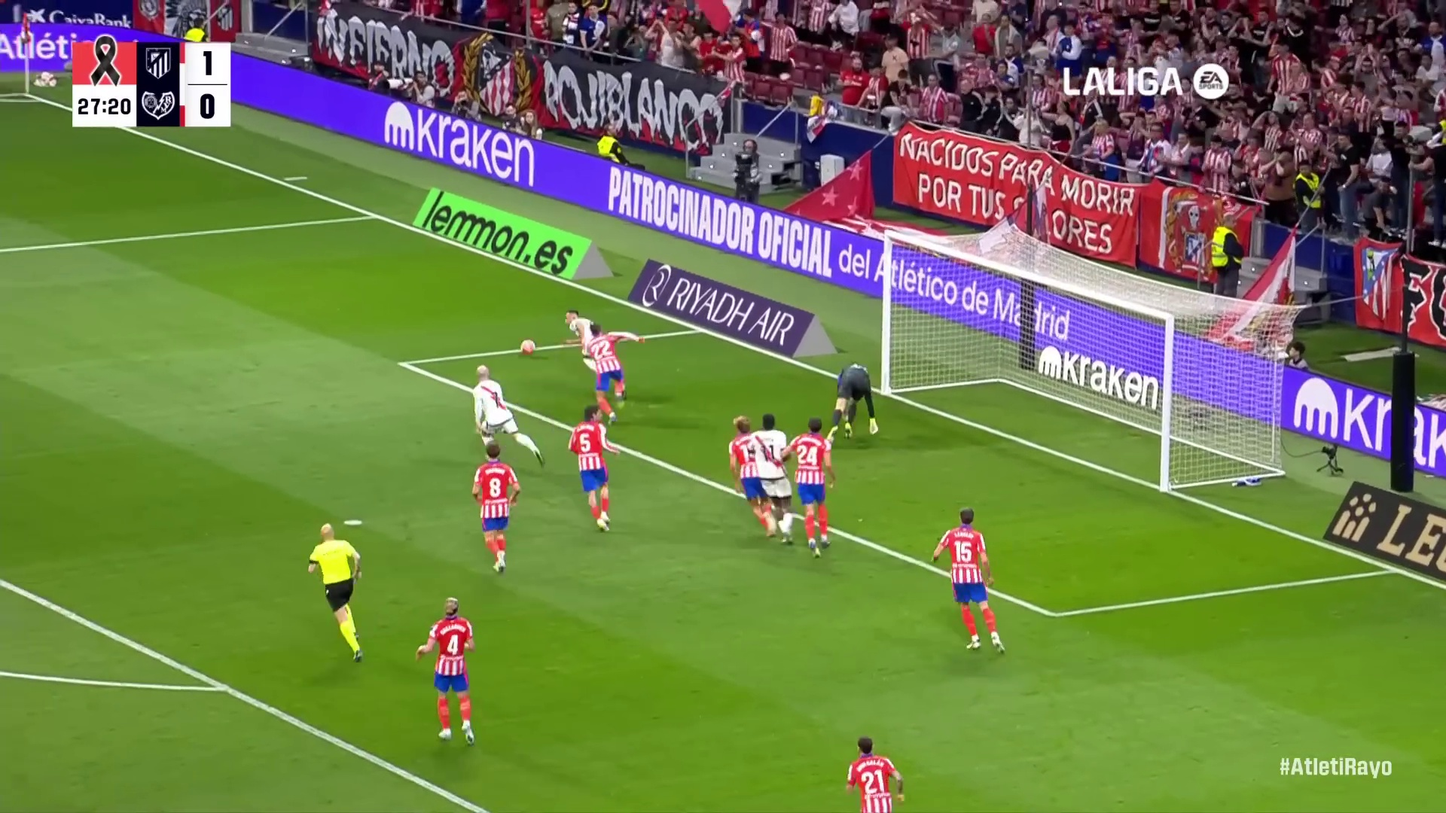ball: (518, 338, 538, 356)
player: (930, 505, 1011, 655), (409, 595, 486, 749), (466, 362, 548, 469), (725, 412, 789, 542), (783, 417, 839, 557), (564, 405, 623, 533), (743, 411, 797, 550), (468, 444, 523, 576), (577, 321, 648, 418), (841, 735, 908, 813), (828, 361, 882, 441), (552, 306, 607, 377)
referee: (301, 520, 373, 662), (827, 361, 881, 440)
